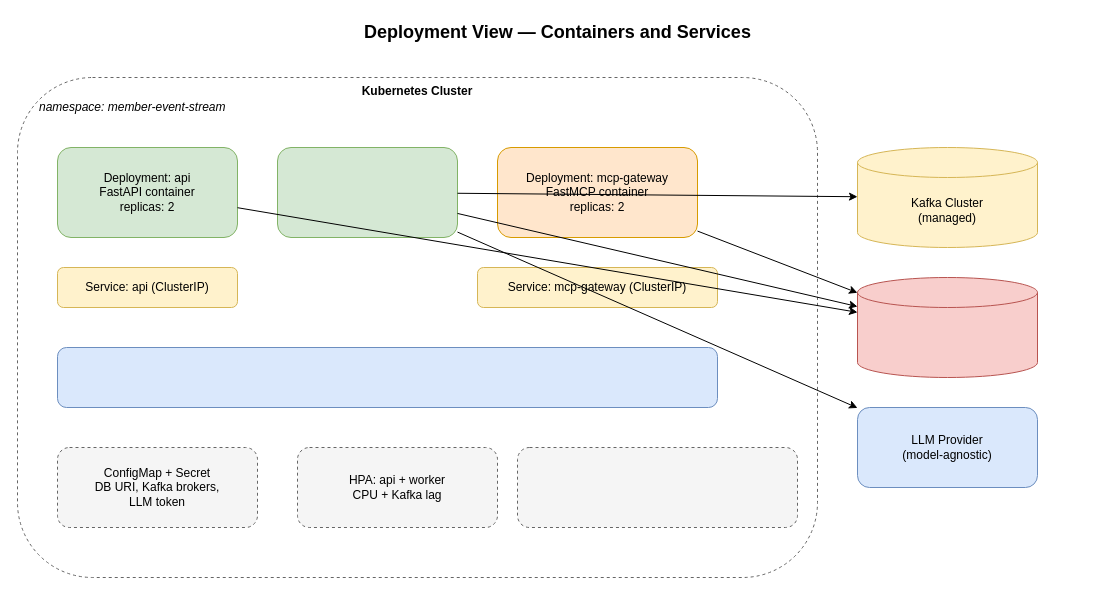
This 1115x595 diagram has some shape labels left out. The centre of each missing label's shape, as x and y in pixels:
"Deployment: worker async Kafka consumer replicas: 3" goes at [367,192].
"Ingress HTTPS / TLS termination" goes at [387,377].
"Logs / metrics → ELK + Prometheus" goes at [657,487].
"MongoDB Atlas (managed replica set)" goes at [947,327].
